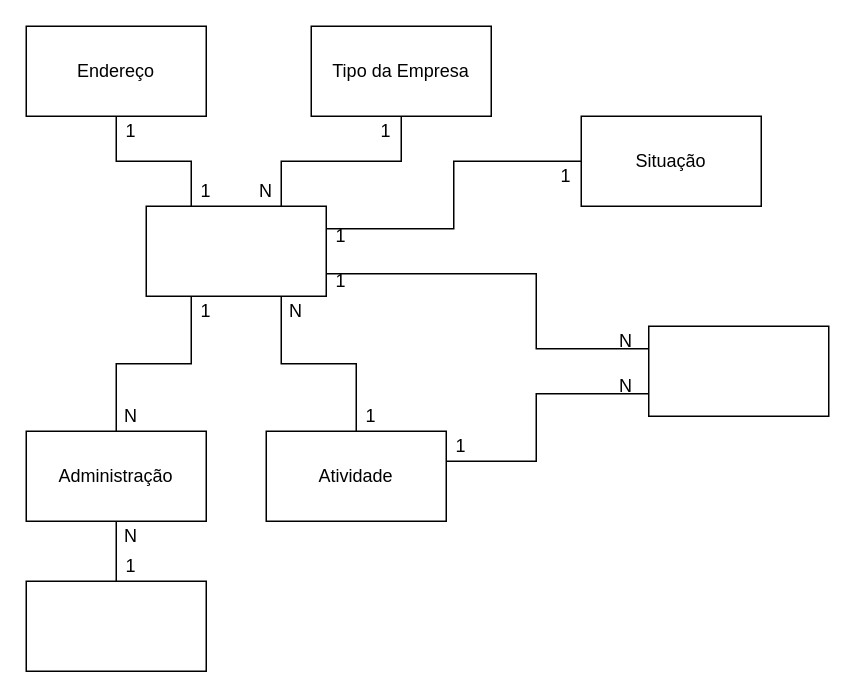
Image size: 855x698. Some labels were removed from this diagram. Here are the shapes that lost their labels. From the top down, the centre of each, then its label:
point (235, 250): Empresa
point (738, 370): Atividades Secundárias
point (115, 625): Pessoa
